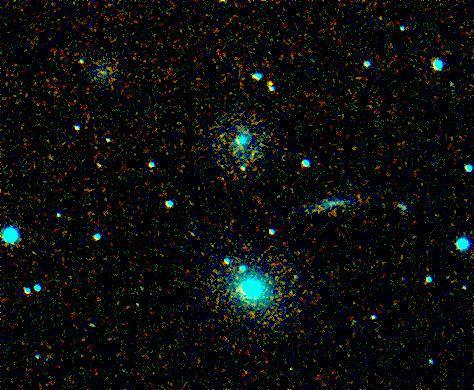star: (262, 72, 292, 102)
